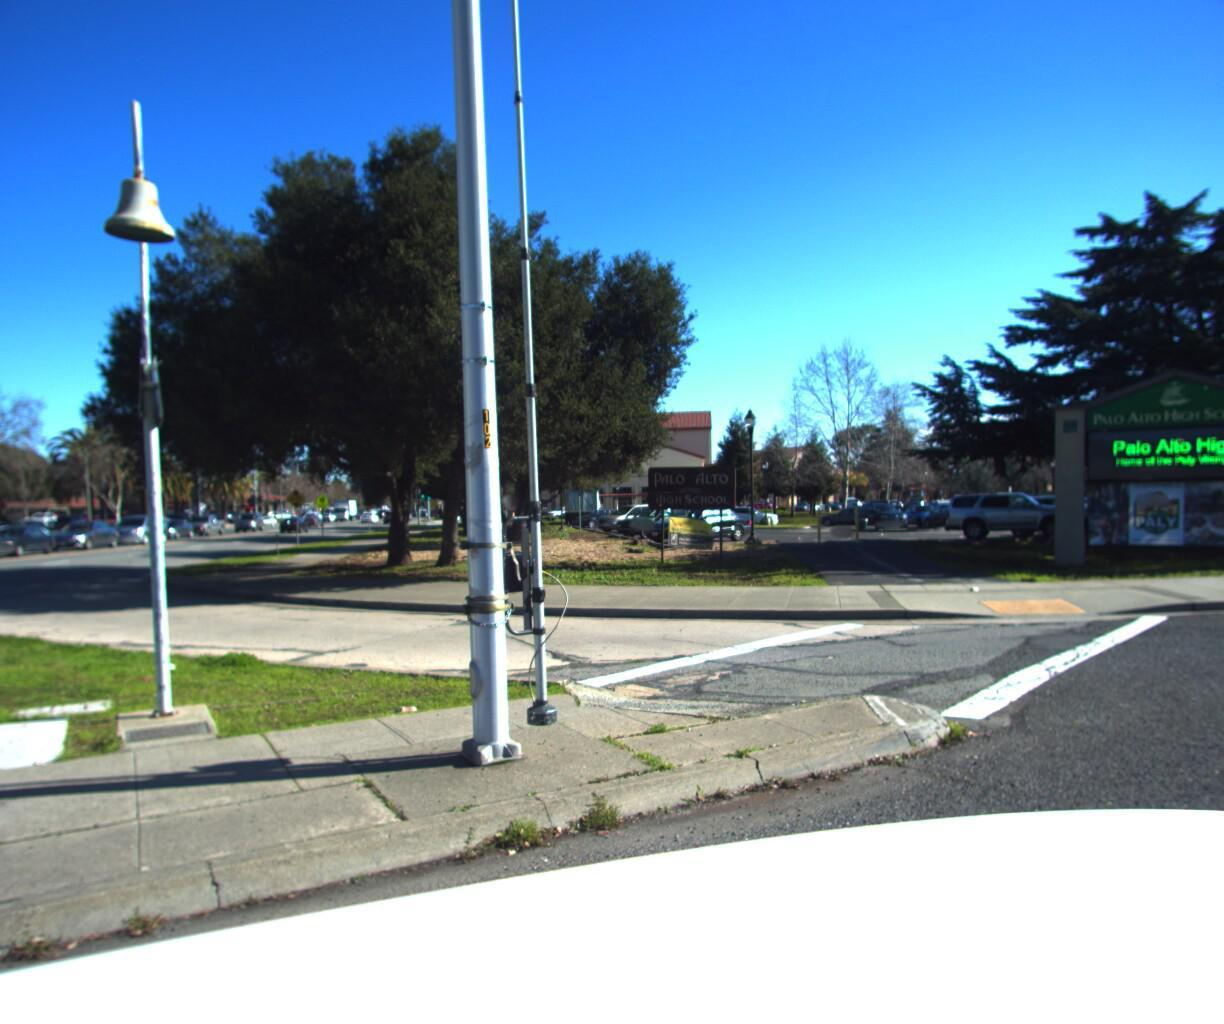car: (0, 514, 71, 553), (42, 514, 126, 544), (105, 508, 177, 539), (187, 508, 226, 531)
